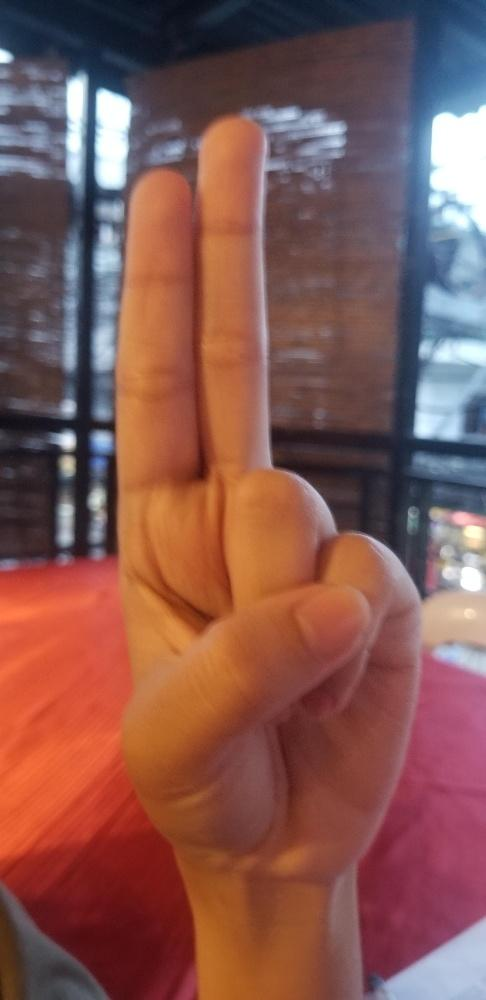u: (112, 114, 424, 866)
